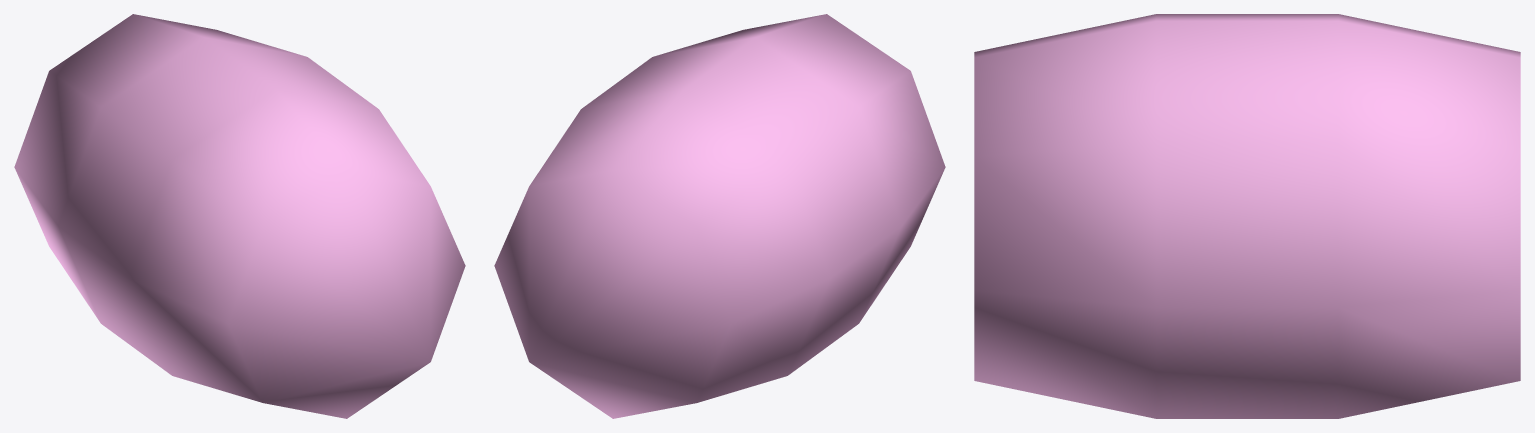
The picture shows the model from 3 angles, left to right: view 1: azimuth 30°, elevation 25°; view 2: azimuth 150°, elevation 25°; view 3: azimuth 270°, elevation 25°; orthographic projection. The views are drawn at different scales.
Visible parts, largest first — view 1: Object04; view 2: Object04; view 3: Object04.
Boxes of the visible parts, bbox=[...] form: Object04: bbox=[14, 14, 465, 418]; Object04: bbox=[494, 14, 945, 418]; Object04: bbox=[974, 14, 1520, 418].
Size of the model in its own units: 8127 by 8127 by 10298.
